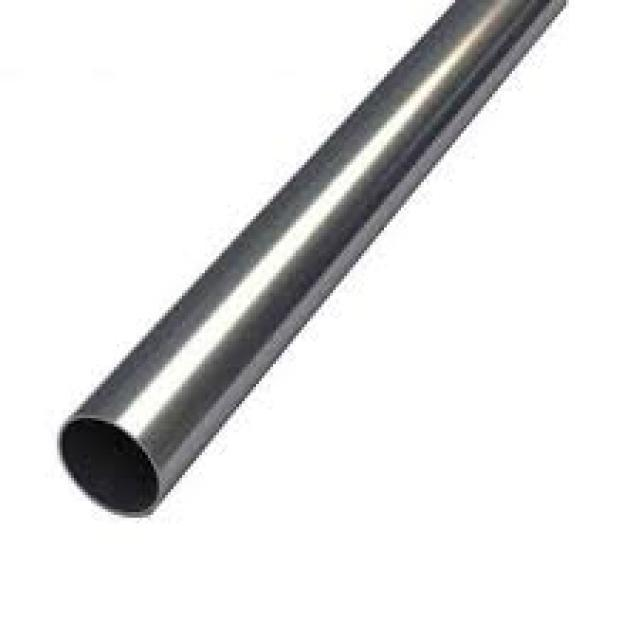pipe: (53, 412, 164, 523)
